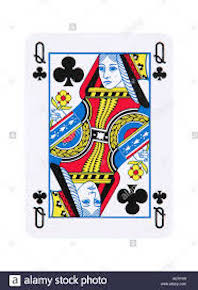QueenOfClubs: (16, 25, 175, 243)
